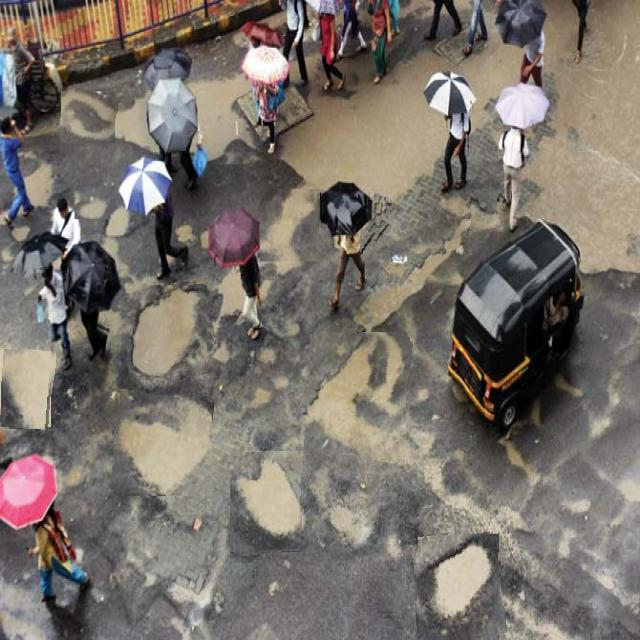Pothole: (306, 332, 410, 460), (113, 391, 212, 496), (414, 534, 502, 640), (230, 451, 306, 554), (133, 285, 207, 375), (1, 347, 54, 429), (261, 189, 321, 261), (59, 89, 117, 146), (75, 187, 114, 219), (469, 189, 499, 230)
